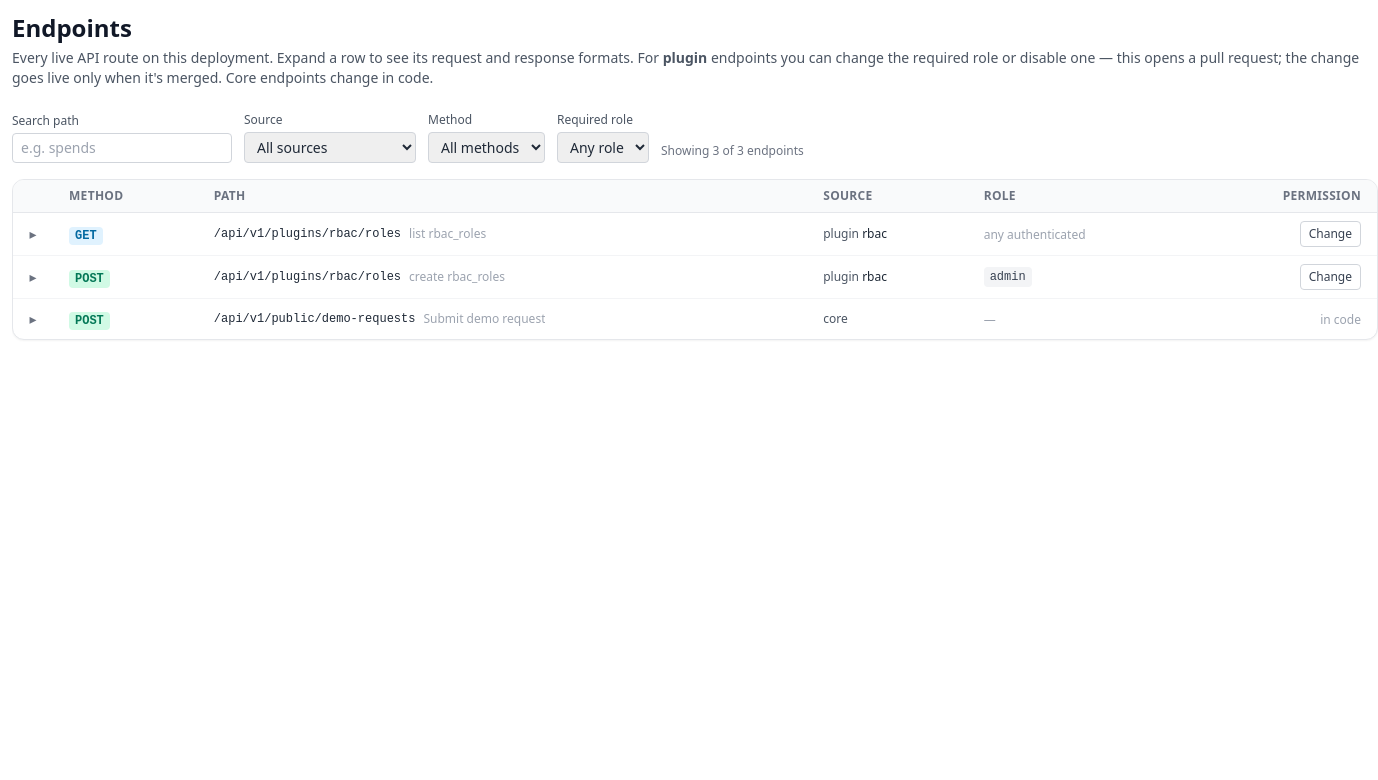
Test case: EndpointsPage › expands a row to show its request/response specifics, fetched on demand
Expected: the button "/api/v1/public/demo-requests" is shown, [214, 311, 415, 327]
Click the button named "Show details for POST /api/v1/public/demo-requests" at (33, 319), box [21, 307, 45, 331]
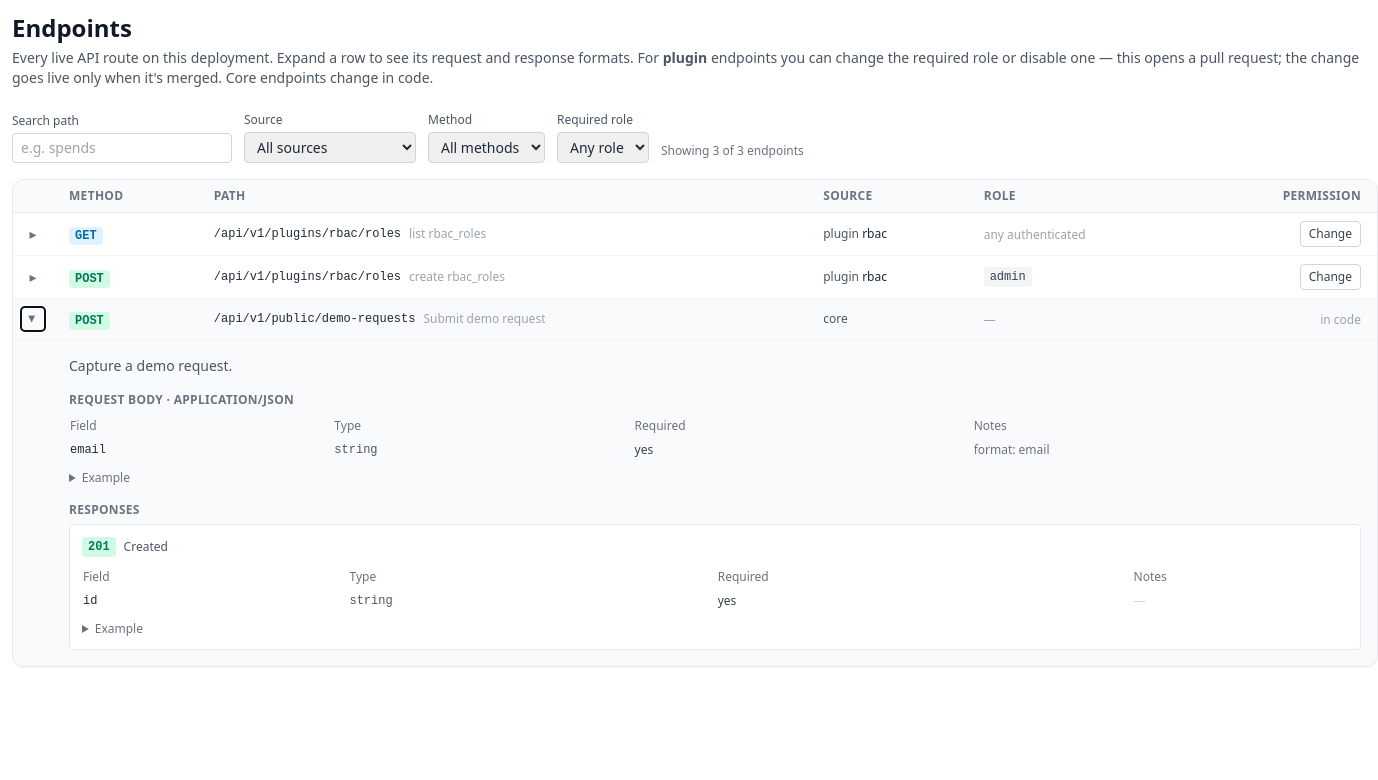
Now the text "email" is shown, box [69, 438, 333, 462]
Now the text "id" is shown, box [82, 589, 348, 613]
Now the text "201" is shown, box [82, 537, 116, 557]
